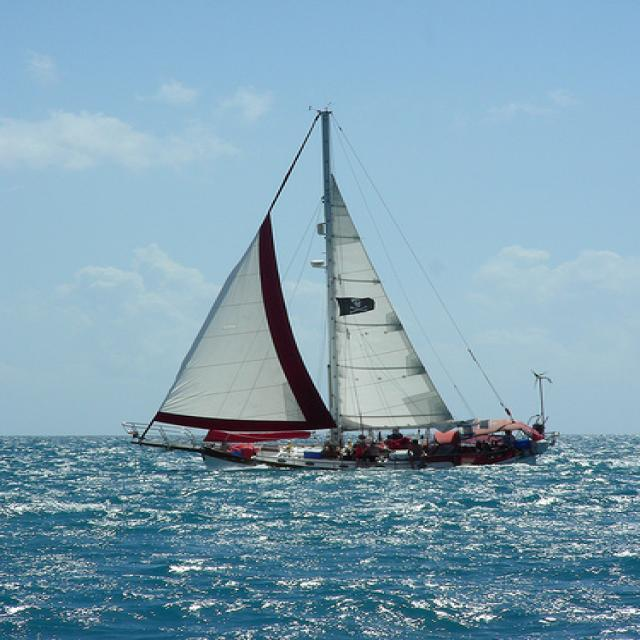Ship: (146, 103, 543, 480)
